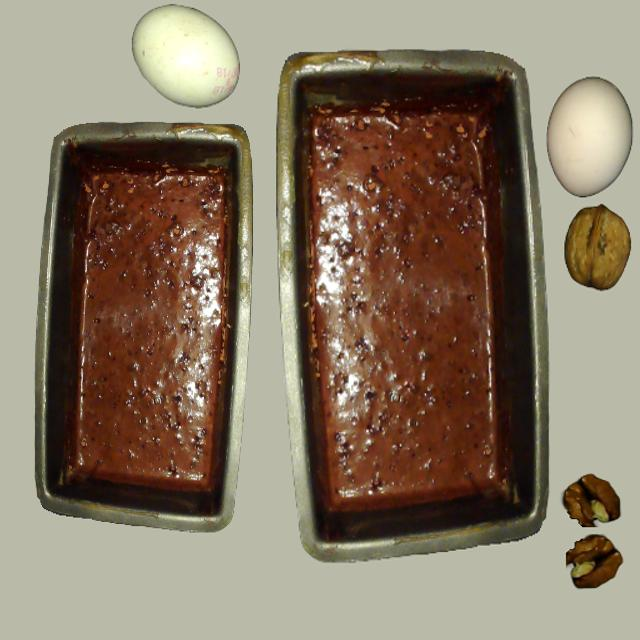Walnut: (564, 206, 631, 290)
